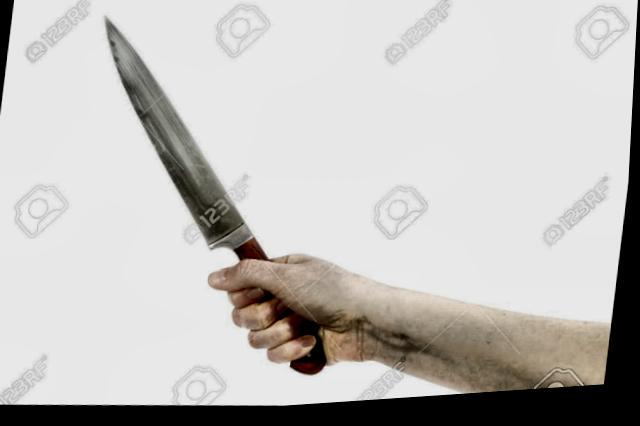knife: (57, 0, 349, 368)
